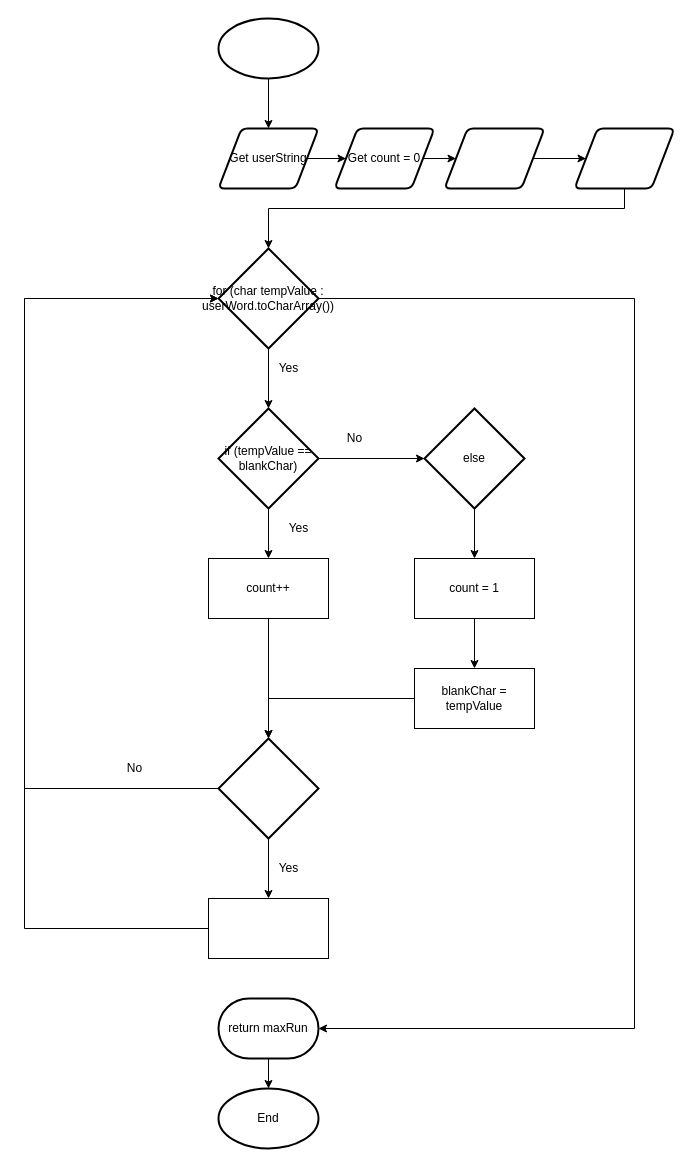
Some shapes in this 693 by 1166 pixel diagram are drawn without their labels. The shapes that lost their labels are listed below. From the top down, each one's box as (x1, y1, x2, y2) in pixels, then its label:
(217, 17, 319, 79): Start
(443, 127, 545, 189): Get blankChar= ''
(573, 127, 675, 189): Get maxRun = 0
(217, 737, 319, 839): if (count > maxRun)
(208, 898, 328, 958): maxRun = count
